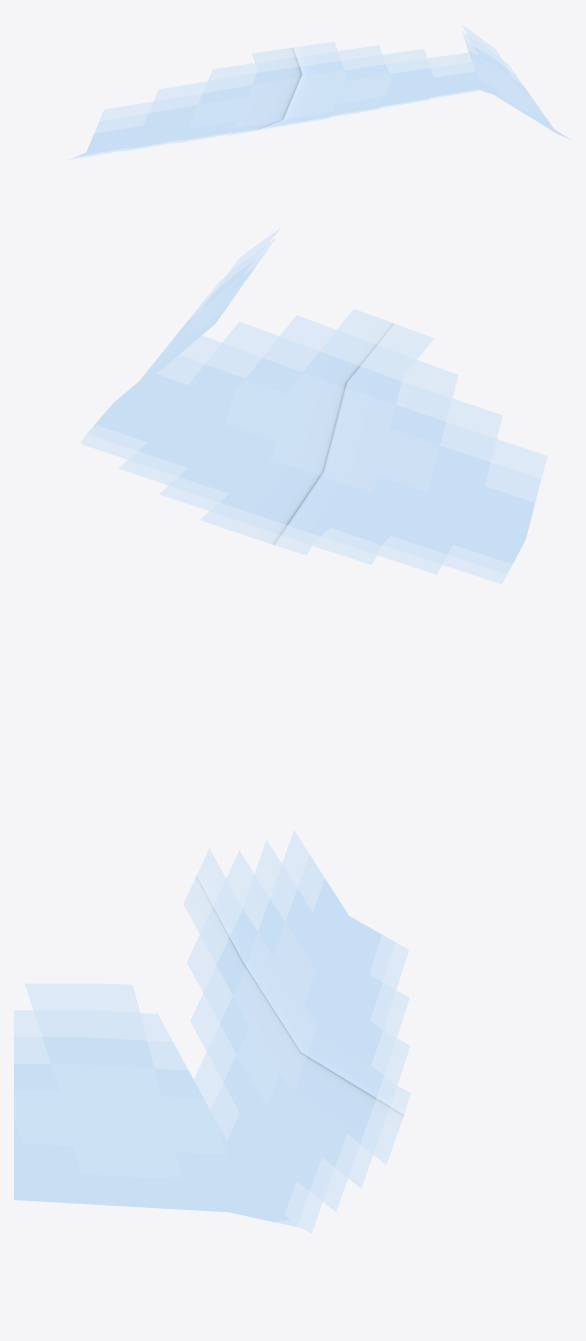
3 views of the same model, one above another, from view 1: azimuth 30°, elevation 25°; view 2: azimuth 150°, elevation 25°; view 3: azimuth 270°, elevation 25° (orthographic). The views are drawn at different scales.
Bounding box in the file's own units: 1 × 0.5088 × 0.8311.
Materials: 1 (1 with a texture image).
